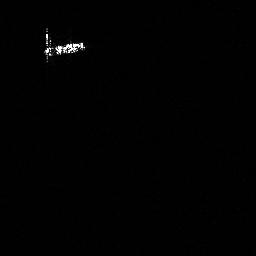ship: (39, 25, 87, 64)
